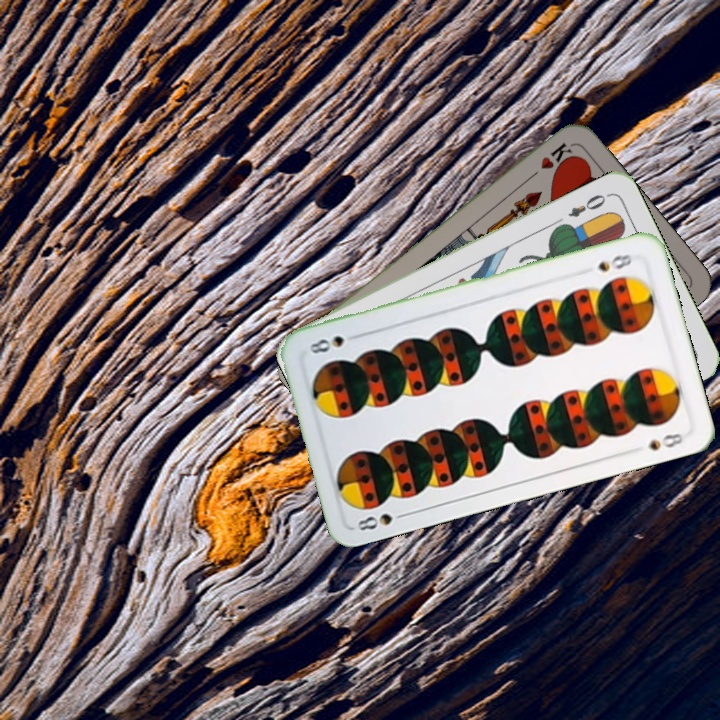EO: (564, 190, 609, 220)
HK: (523, 139, 574, 183)
S8: (353, 509, 411, 534), (594, 250, 634, 275)
